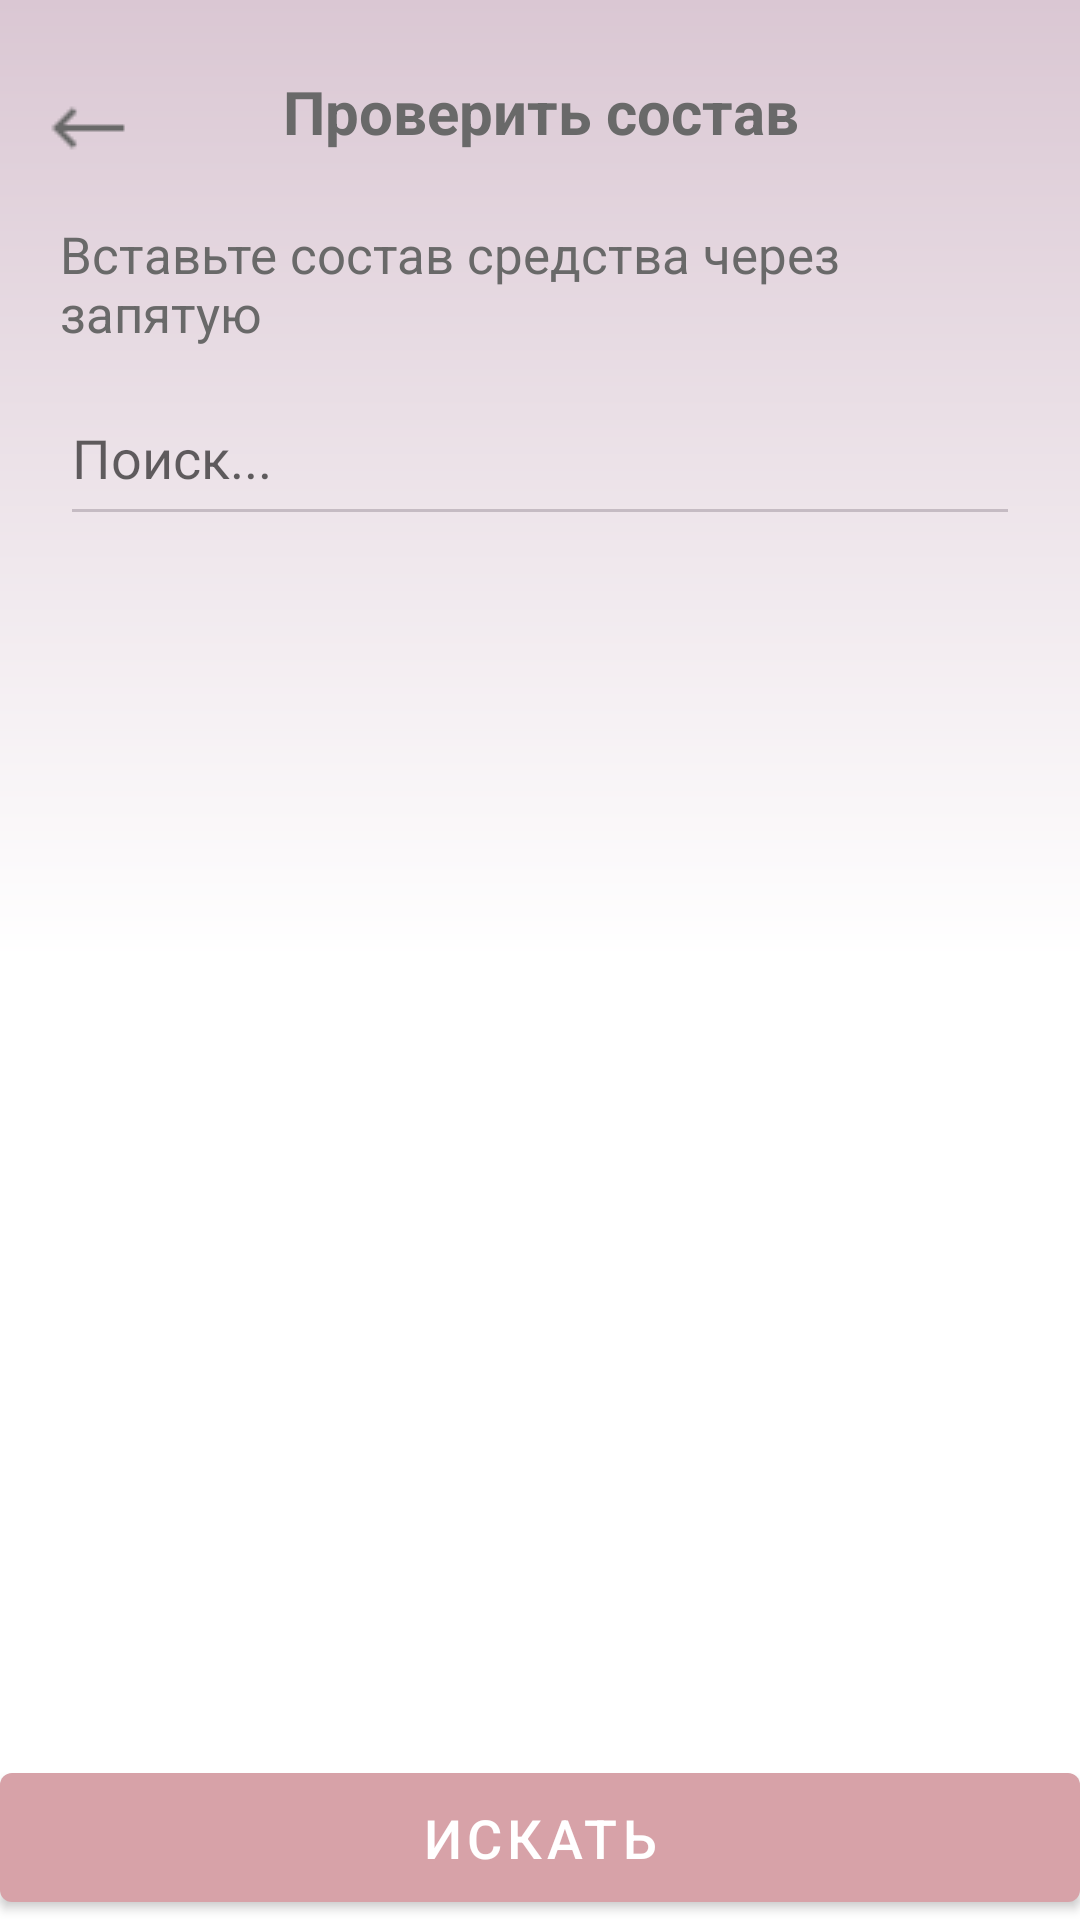

Screen size 1080w x 1920h. Icon name, then its center in pixels as (x=x, y=y):
left back: (x=88, y=128)
